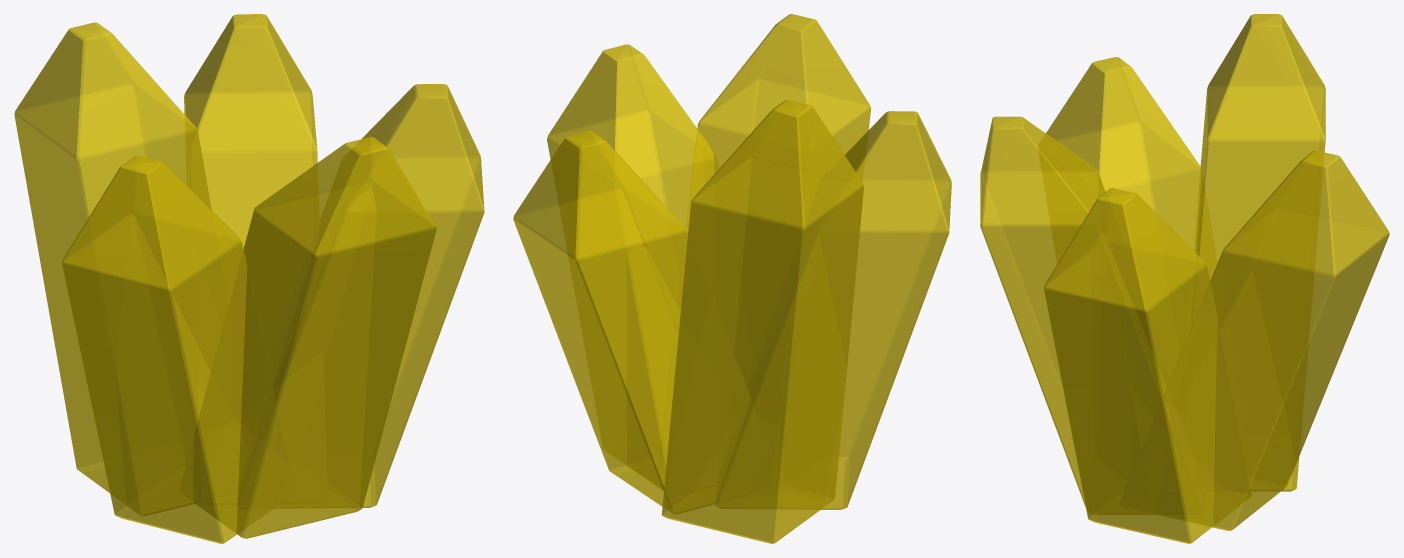
File: crystals_normal.fbx
3 renders of one model, left to right at view 1: azimuth 30°, elevation 25°; view 2: azimuth 150°, elevation 25°; view 3: azimuth 270°, elevation 25°, orthographic. The views are drawn at different scales.
Parts seen in each view (by area): view 1: pCube16, pCube18, pCube15, pCube19, pCube17; view 2: pCube15, pCube17, pCube18, pCube19, pCube16; view 3: pCube19, pCube17, pCube16, pCube15, pCube18.
Part boxes in pixels (<box>): pCube16: <box>193,137,436,538</box>; pCube18: <box>61,155,277,543</box>; pCube15: <box>14,22,211,515</box>; pCube19: <box>273,84,484,508</box>; pCube17: <box>184,14,317,248</box>; pCube15: <box>661,100,863,543</box>; pCube17: <box>513,131,750,514</box>; pCube18: <box>716,111,951,509</box>; pCube19: <box>547,44,718,490</box>; pCube16: <box>686,14,870,231</box>; pCube19: <box>1043,188,1251,543</box>; pCube17: <box>1157,150,1389,530</box>; pCube16: <box>980,116,1170,514</box>; pCube15: <box>1194,14,1325,491</box>; pCube18: <box>1046,57,1216,280</box>.
Size of the model in its own units: 2.35 by 2.42 by 2.15.
